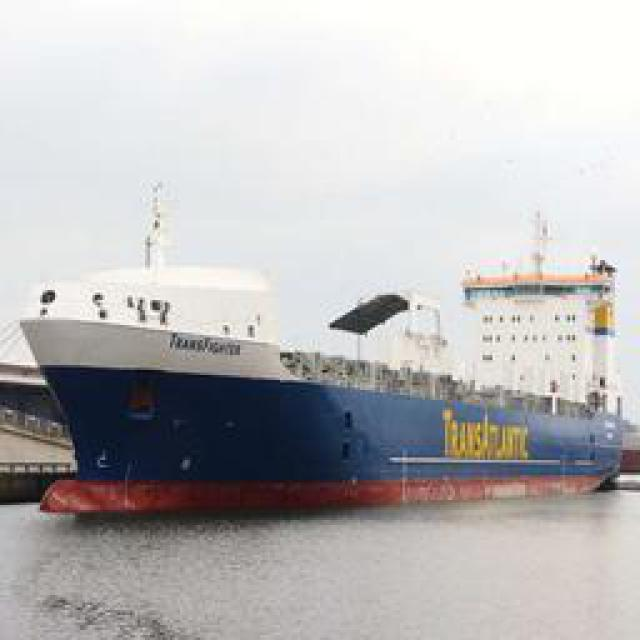Ship: (20, 295, 620, 518)
